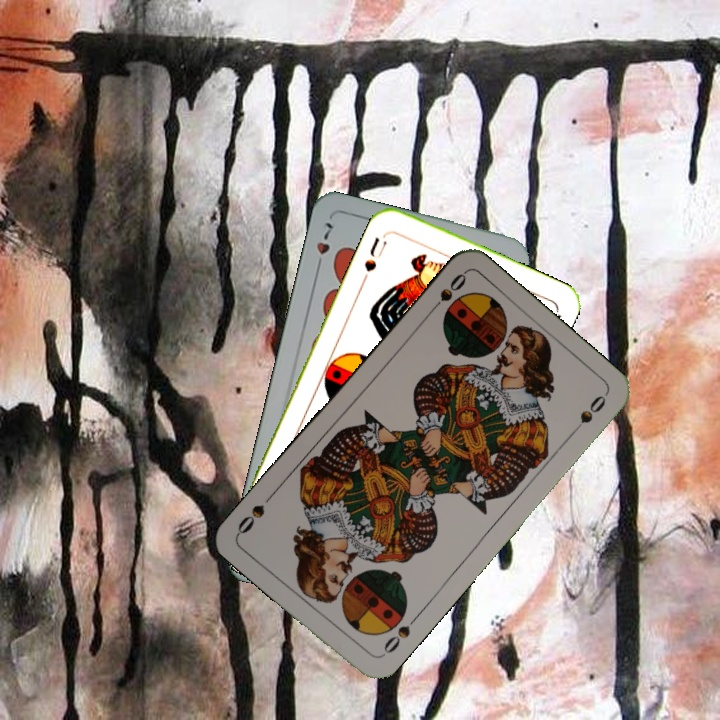H7: (311, 218, 336, 274)
SO: (424, 269, 469, 317), (376, 612, 421, 660)
SU: (358, 228, 392, 283)
